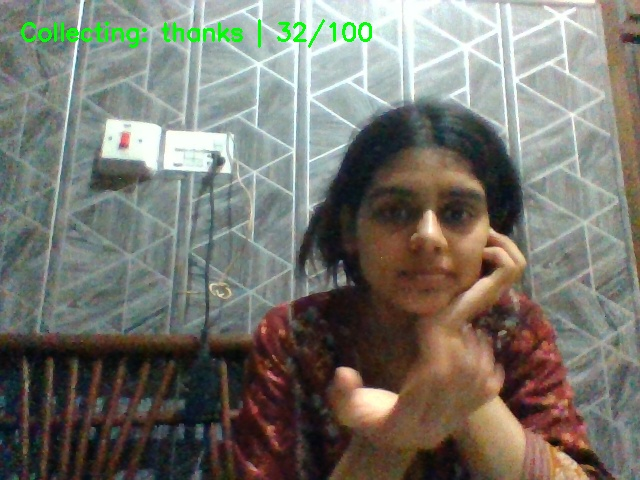thanks: (323, 318, 535, 480)
